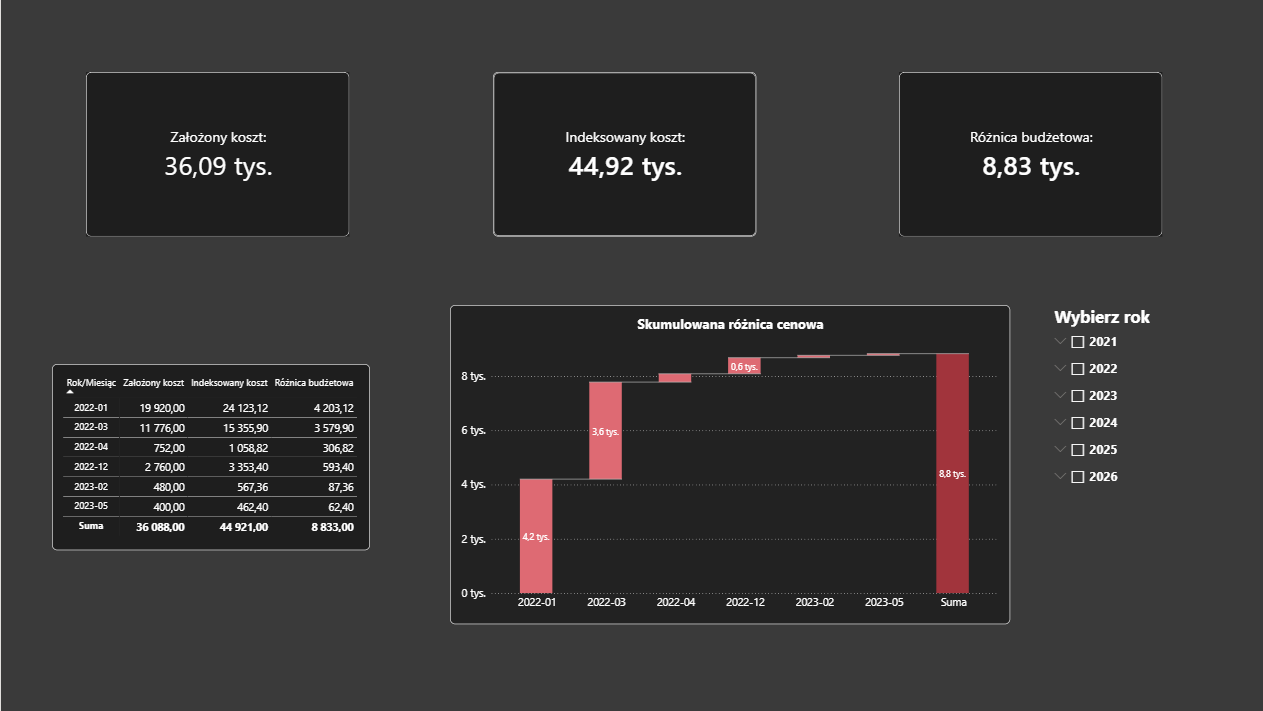

The dashboard page shown, as its layout file describes it:
{"tool":"powerbi","page":{"name":"Strona 1","canvas":[1920,1080],"ordinal":0},"visuals":[{"type":"pivotTable","fields":{"Rows":["Dim_Calendar.Year-Month"],"Values":["_Measures (2).1_Baseline_Budget","_Measures (2).3_Indexed_Actual_Cost","_Measures (2).4_Cost_Variance"]},"box":[77.5,552.9,483,282.5],"z":0},{"type":"cardVisual","fields":{"Data":["_Measures (2).1_Baseline_Budget"]},"box":[129.1,109.4,400,250],"z":1000},{"type":"cardVisual","fields":{"Data":["_Measures (2).3_Indexed_Actual_Cost"]},"box":[747.3,109.4,400,250],"z":2000},{"type":"cardVisual","fields":{"Data":["_Measures (2).4_Cost_Variance"]},"box":[1364.1,109.4,400,250],"z":3000},{"type":"waterfallChart","title":"Skumulowana różnica cenowa","fields":{"Category":["Dim_Calendar.Year-Month"],"Y":["_Measures (2).4_Cost_Variance"]},"box":[682,463.3,850.6,484.6],"z":4000},{"type":"slicer","fields":{"Values":["Dim_Calendar.Year","Dim_Calendar.Month Name"]},"box":[1591.9,463.3,206.6,288.6],"z":5000}]}

Visuals, with their boxes in screenshot pixels (x1, y1, x2, y2), scaled from the page's 1920x1080 canvas onto the 1263x711 screenshot:
pivotTable - Dim_Calendar.Year-Month x _Measures (2).1_Baseline_Budget: detection(51, 364, 369, 550)
cardVisual - _Measures (2).1_Baseline_Budget: detection(85, 72, 348, 237)
cardVisual - _Measures (2).3_Indexed_Actual_Cost: detection(492, 72, 755, 237)
cardVisual - _Measures (2).4_Cost_Variance: detection(897, 72, 1160, 237)
"Skumulowana różnica cenowa" waterfallChart: detection(449, 305, 1008, 624)
slicer - Dim_Calendar.Year x Dim_Calendar.Month Name: detection(1047, 305, 1183, 495)
